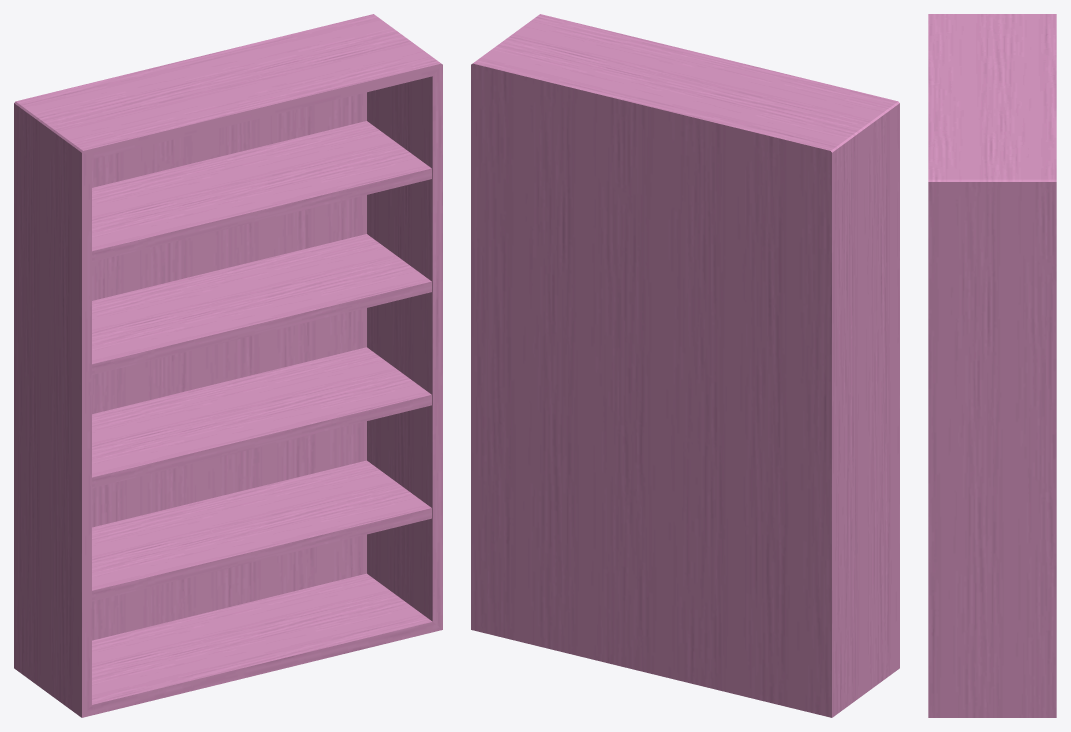
File: Bookshelf_J.FBX
The picture shows the model from 3 angles, left to right: view 1: azimuth 30°, elevation 25°; view 2: azimuth 150°, elevation 25°; view 3: azimuth 270°, elevation 25°; orthographic projection. The views are drawn at different scales.
Visible parts, largest first — view 1: Bookshelf; view 2: Bookshelf; view 3: Bookshelf.
Boxes of the visible parts, left/top/right/bottom form: Bookshelf: left=14, top=14, right=442, bottom=717; Bookshelf: left=471, top=14, right=899, bottom=717; Bookshelf: left=928, top=14, right=1056, bottom=717.
Size of the model in its own units: 200 by 300 by 65.
